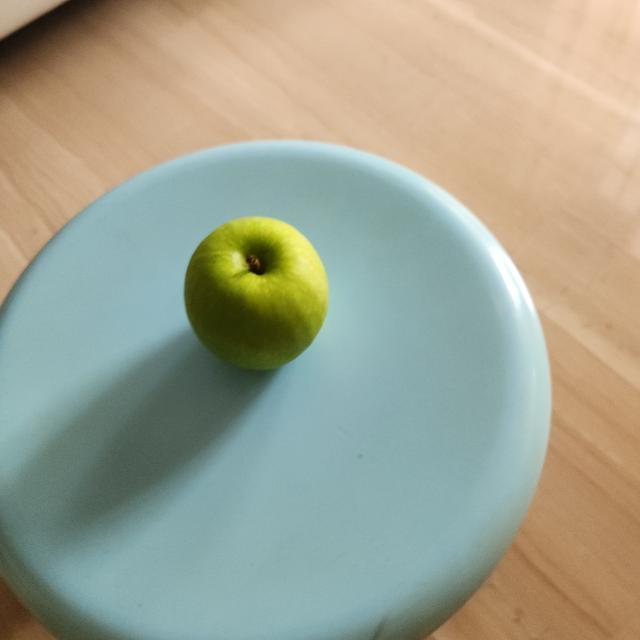apple: (176, 216, 332, 381)
